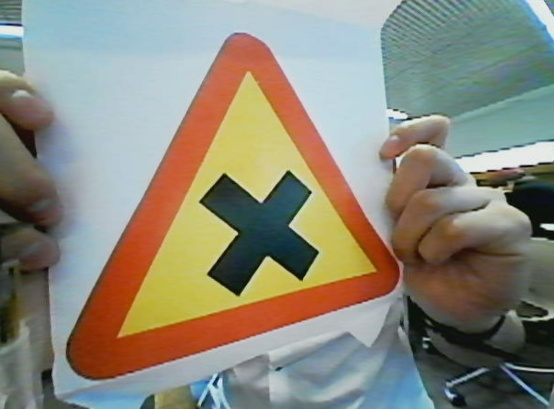junction: (72, 24, 406, 387)
